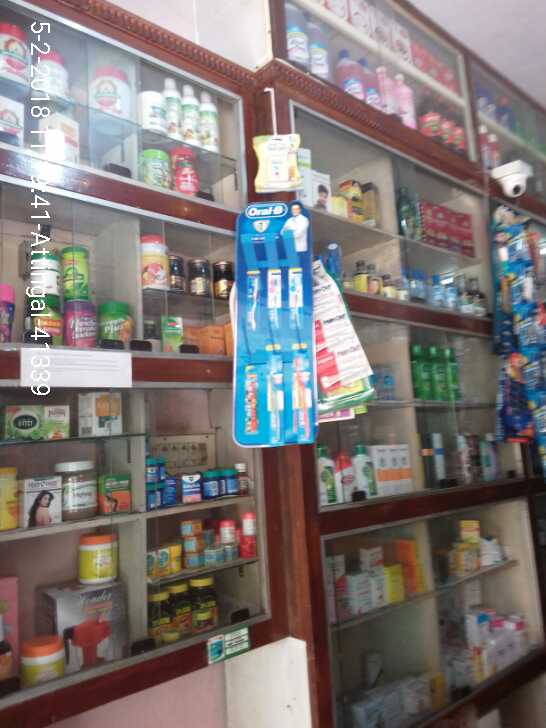pharmacy: (199, 469, 222, 500), (218, 467, 239, 495)
